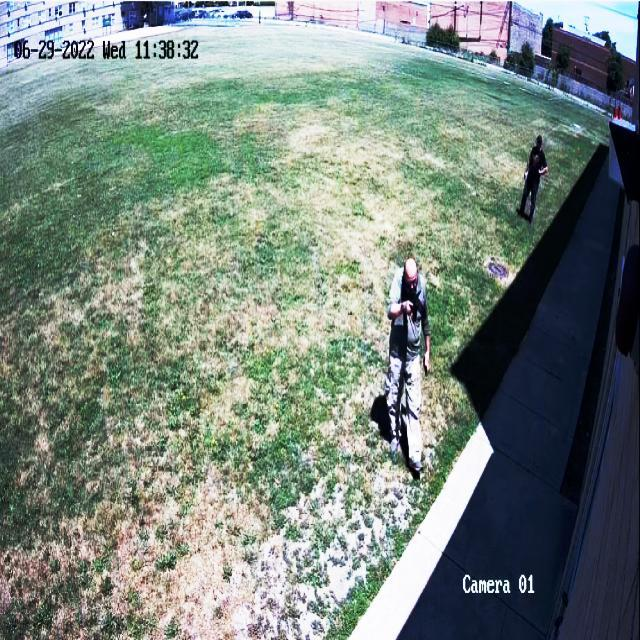Gun: (401, 294, 434, 332)
